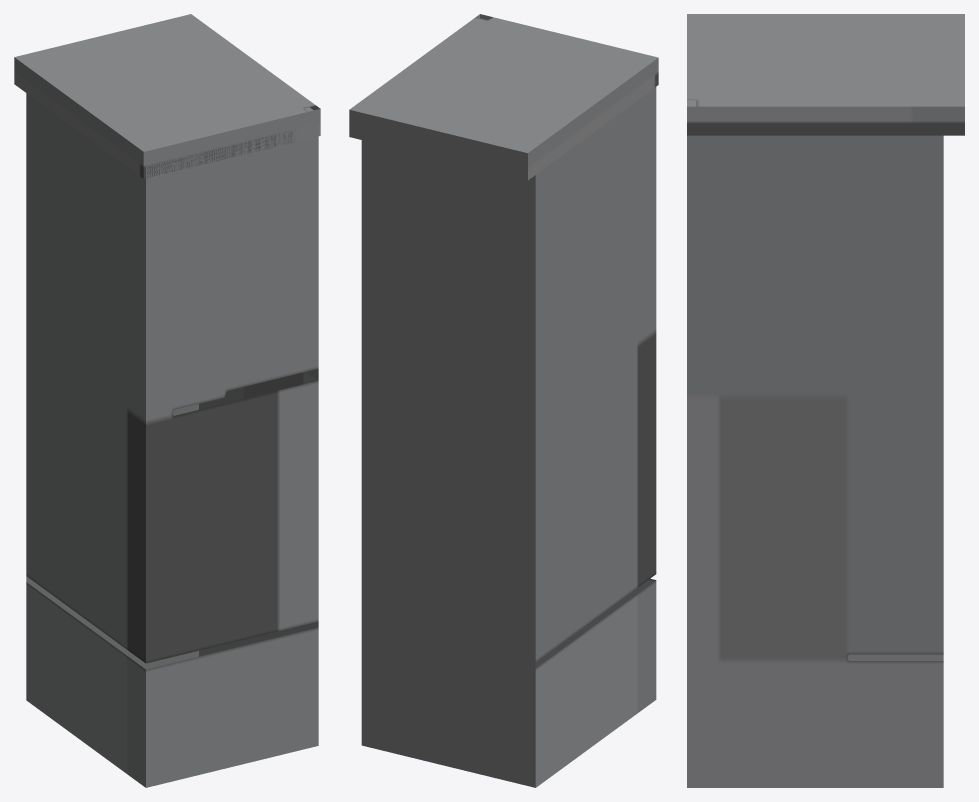
3 renders of one model, left to right at view 1: azimuth 30°, elevation 25°; view 2: azimuth 150°, elevation 25°; view 3: azimuth 270°, elevation 25°, orthographic. The views are drawn at different scales.
Size of the model in its own units: 0.205 by 0.705 by 0.26.
